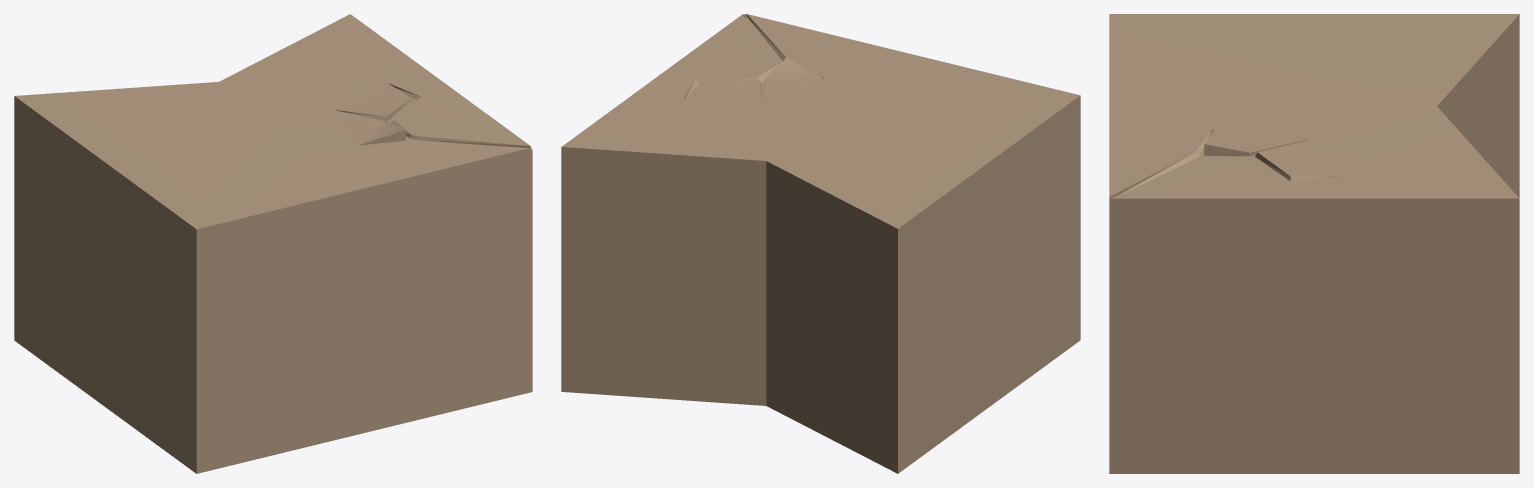
Rendered from 1ma ston move.FBX.
3 views of the same model, side by side, from view 1: azimuth 30°, elevation 25°; view 2: azimuth 150°, elevation 25°; view 3: azimuth 270°, elevation 25° (orthographic). The views are drawn at different scales.
Visible parts, largest first — view 1: move floor001; view 2: move floor001; view 3: move floor001.
Boxes of the visible parts, x1,y1,x2,y2 form: move floor001: (14,14,532,473); move floor001: (561,14,1080,473); move floor001: (1109,14,1519,473).
Bounding box in the file's own units: 19.34 × 13.84 × 18.17.
